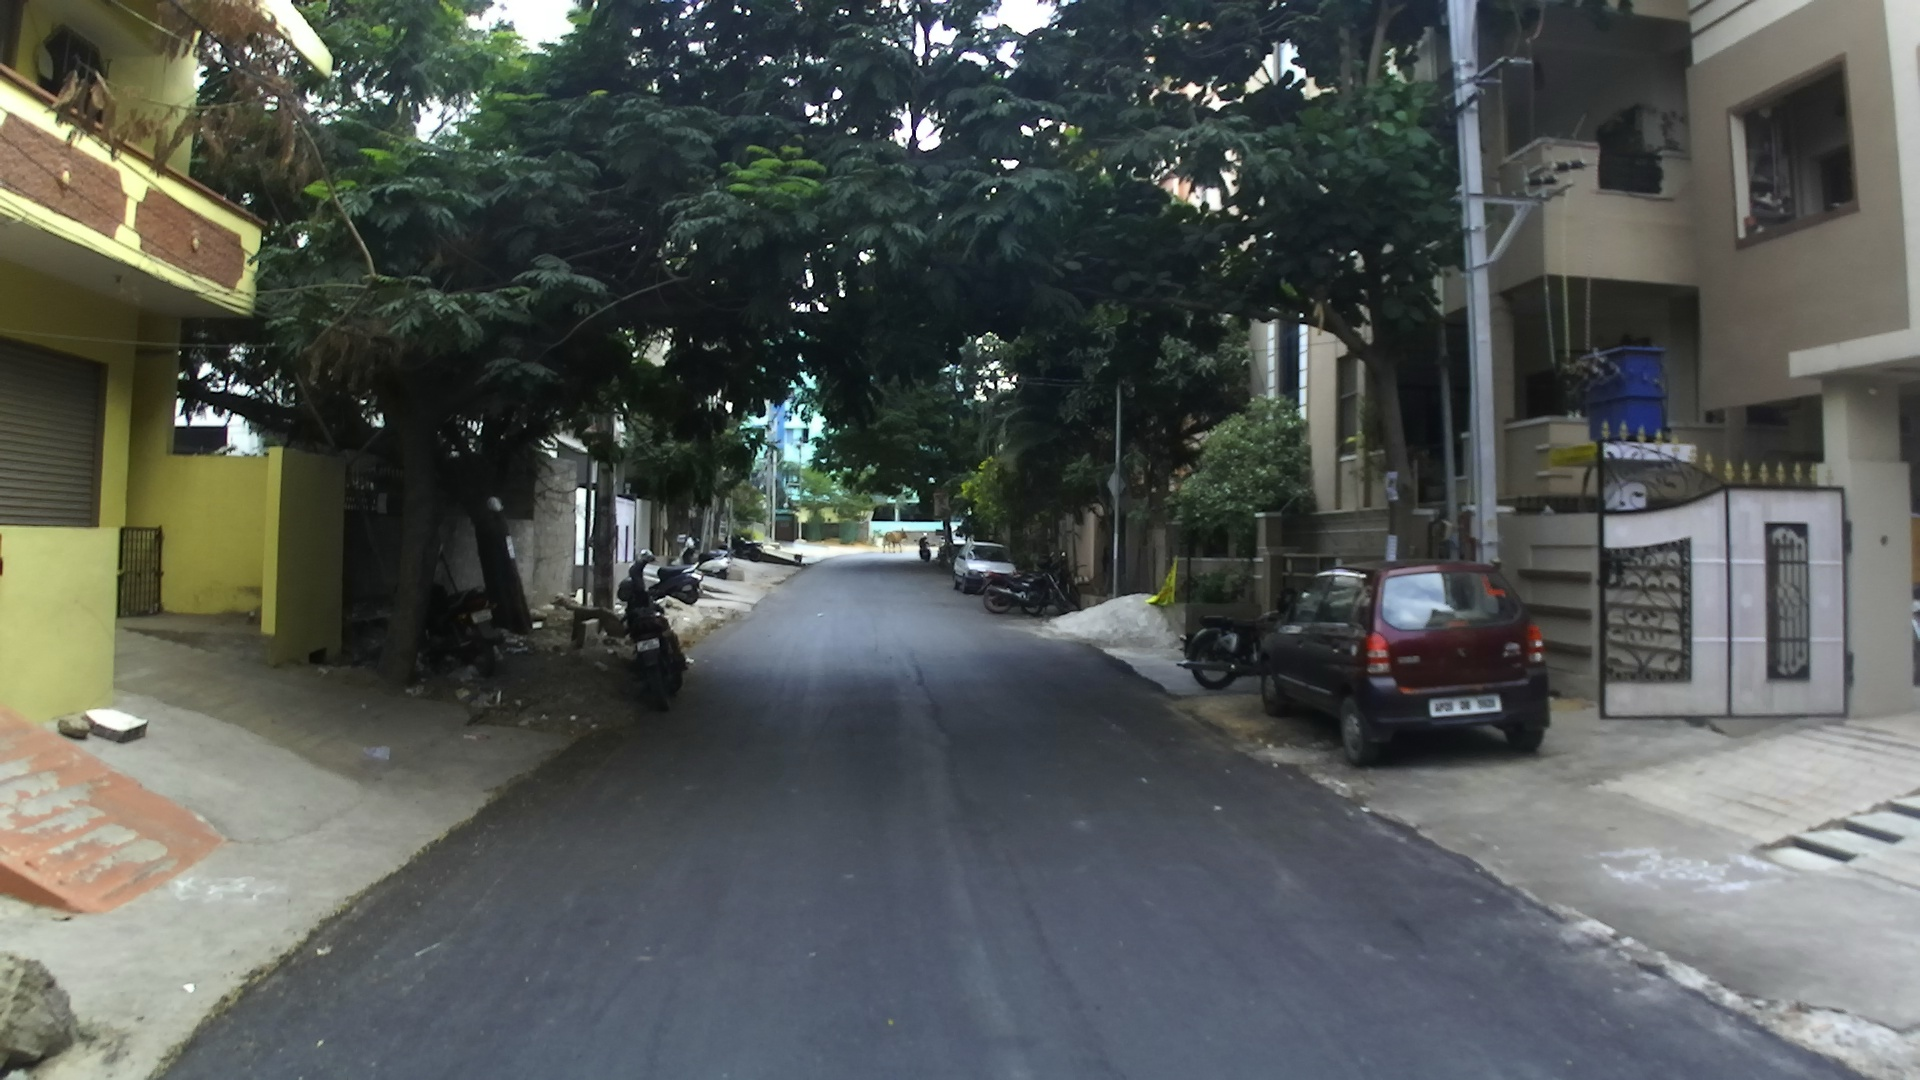vehicle: (1258, 560, 1549, 764), (615, 608, 687, 711), (953, 547, 1019, 593)
